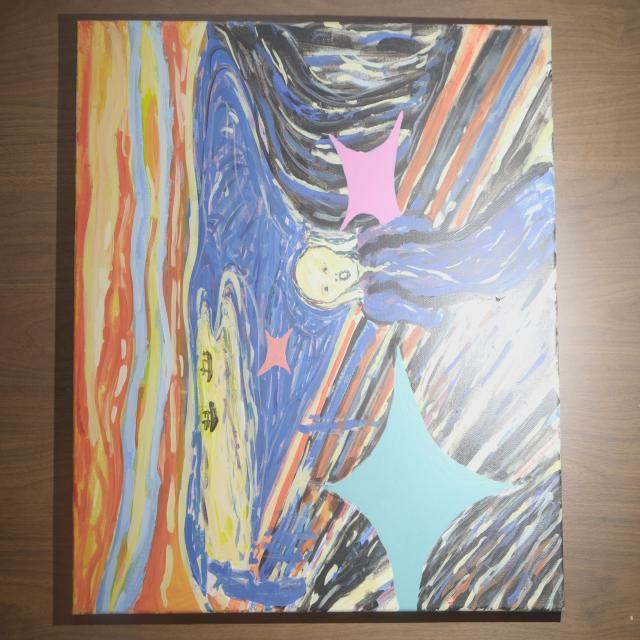painting: (74, 22, 563, 613)
